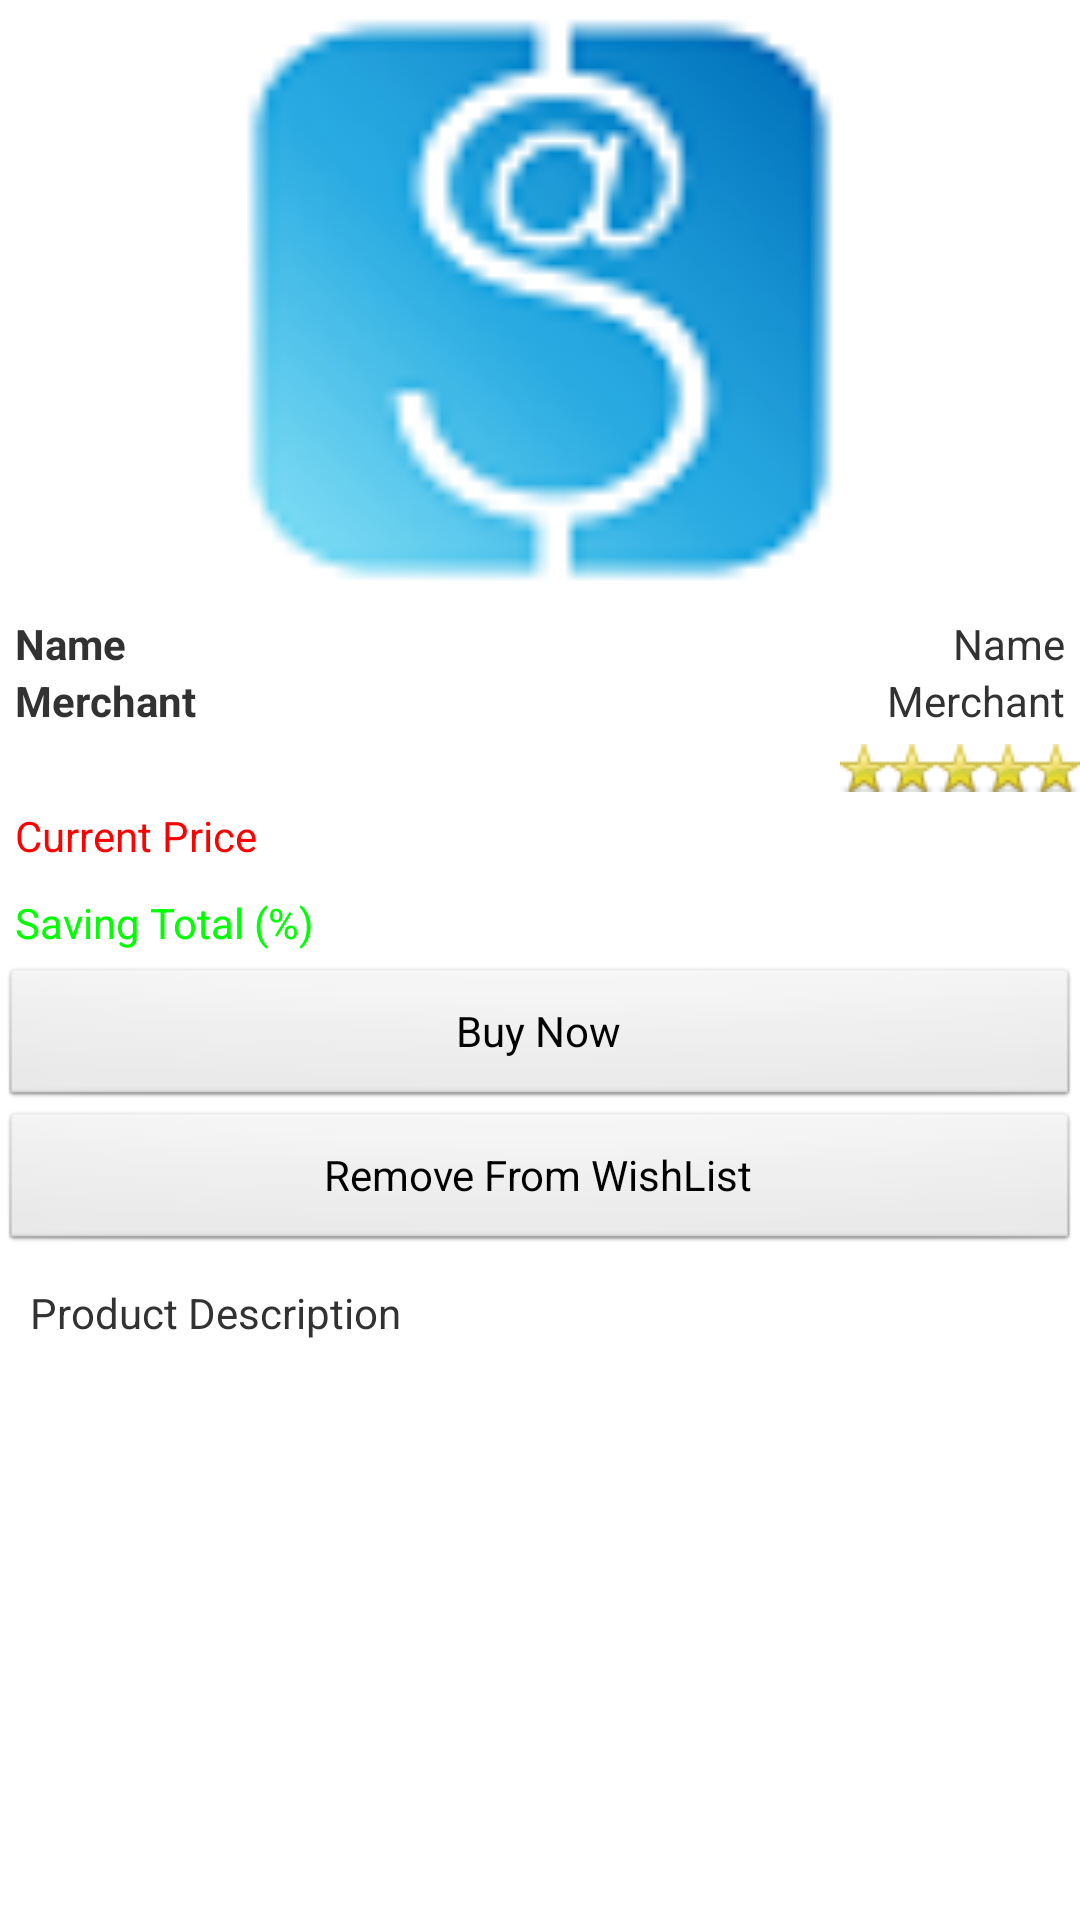

Icons on this 1080px x 1920px Android screen, each with the point to tap as (x=x, y=y):
star: (x=960, y=768)
